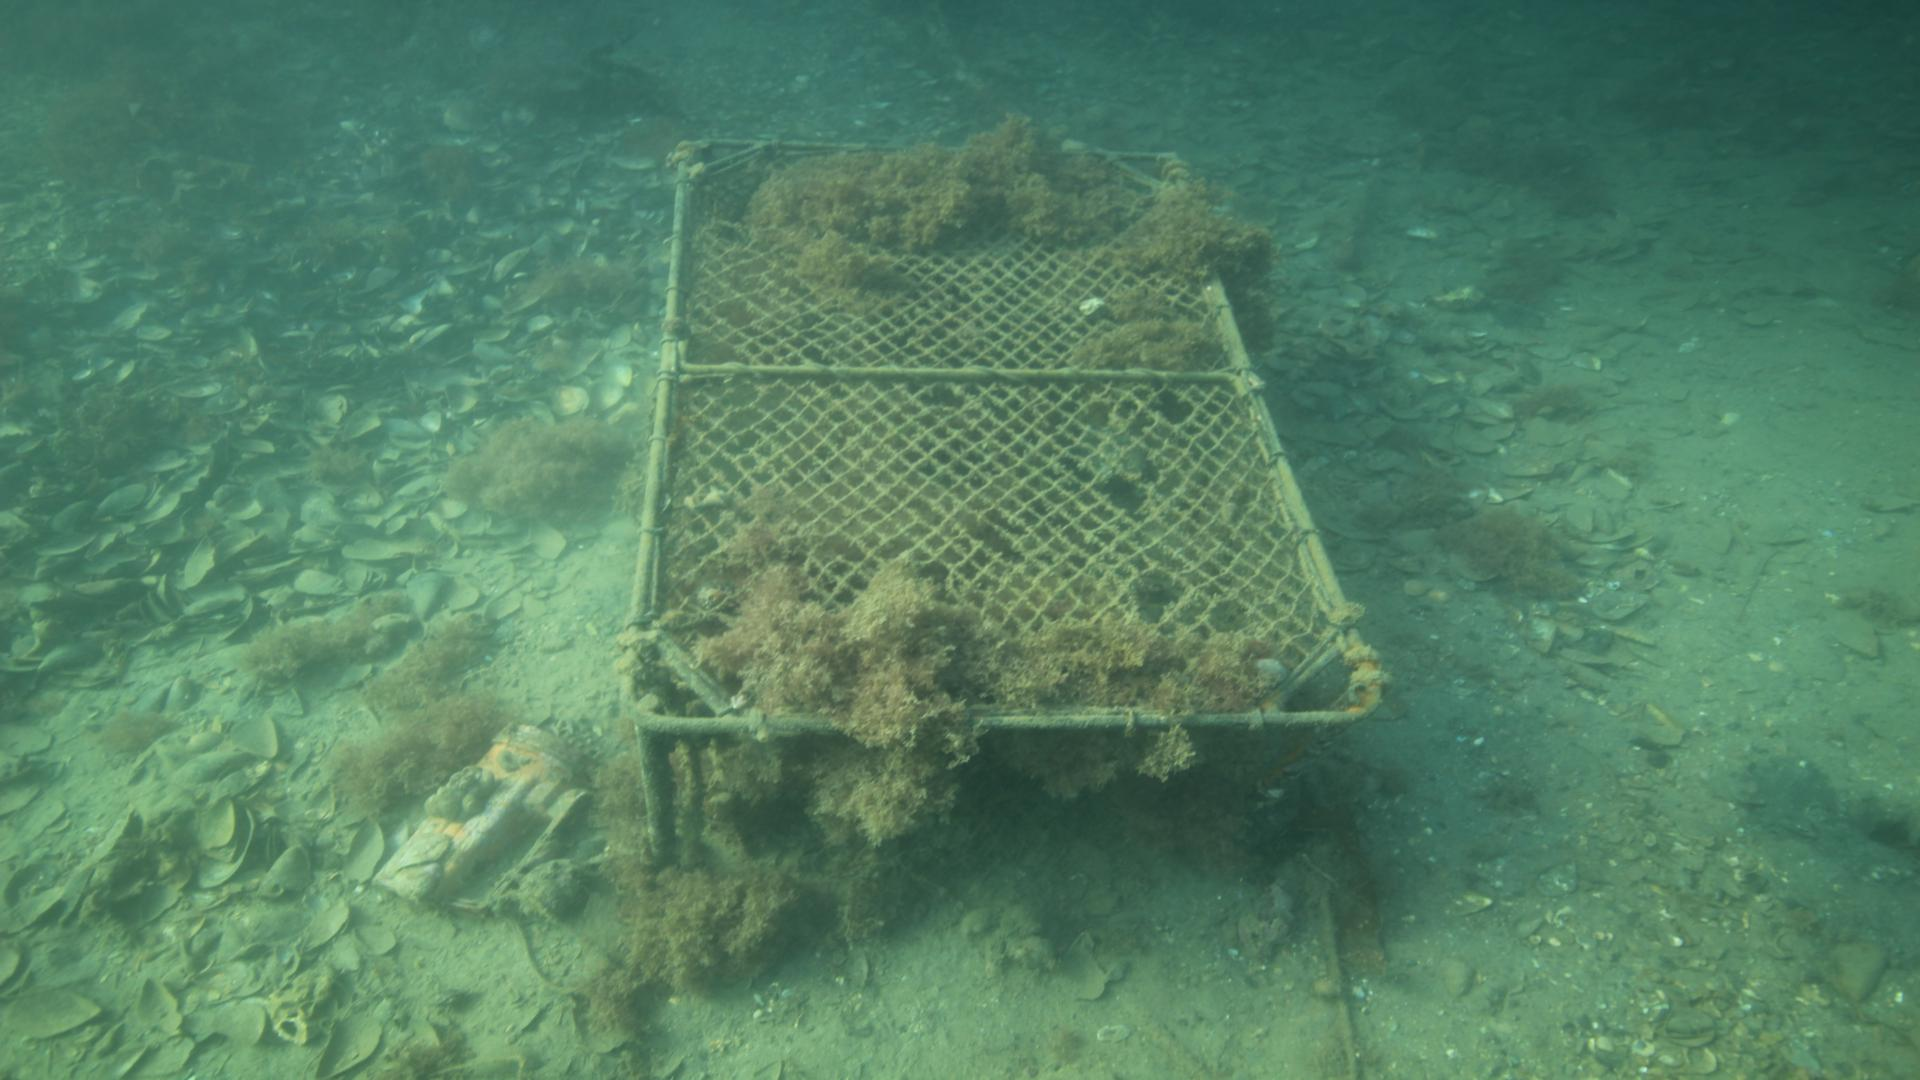rectangular fish trap: (616, 136, 1390, 861)
